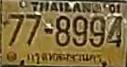4: (107, 16, 123, 47)
7: (8, 13, 24, 45), (25, 13, 40, 44)
8: (56, 15, 70, 46)
9: (89, 15, 105, 46), (72, 15, 87, 46)
BKK: (23, 49, 104, 64)
